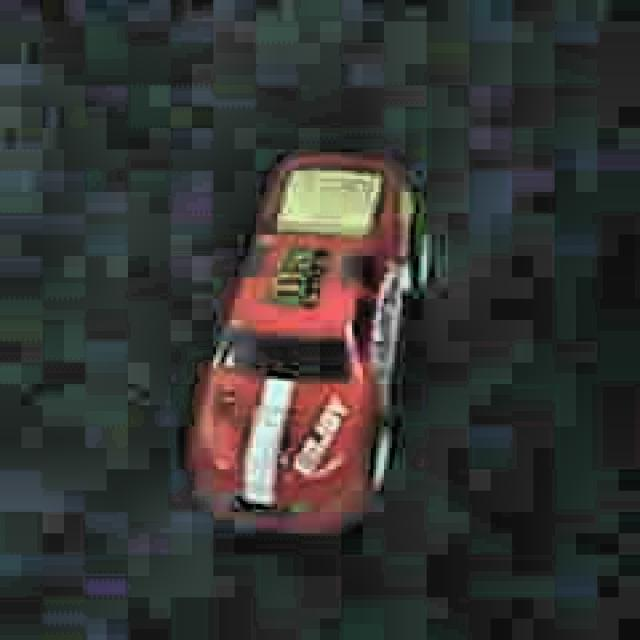car: (177, 139, 442, 541)
